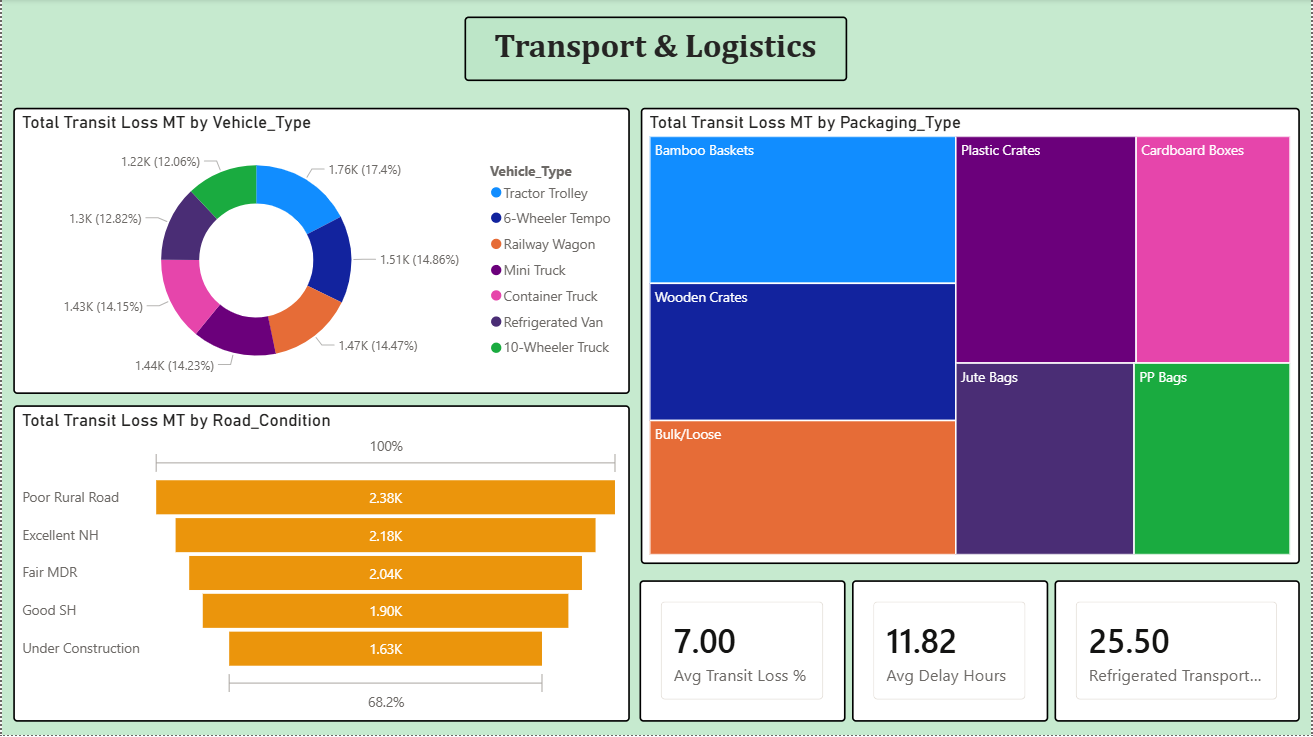

This screenshot's page, from the dashboard's own definition file:
{"tool":"powerbi","page":{"name":"Transport & Logistics","canvas":[1280,720],"ordinal":3},"visuals":[{"type":"donutChart","fields":{"Category":["Transport_Logistics.Vehicle_Type"],"Y":["Measures (2).Total Transit Loss MT"]},"box":[11,106.4,602.9,280],"z":0},{"type":"treemap","fields":{"Group":["Transport_Logistics.Packaging_Type"],"Values":["Measures (2).Total Transit Loss MT"]},"box":[624.9,106.4,644.4,446.3],"z":1000},{"type":"funnel","fields":{"Category":["Transport_Logistics.Road_Condition"],"Y":["Measures (2).Total Transit Loss MT"]},"box":[11,397.4,602.9,309.4],"z":2000},{"type":"cardVisual","fields":{"Data":["Measures (2).Avg Transit Loss %"]},"box":[623.6,568.6,201.8,138.2],"z":3000},{"type":"cardVisual","fields":{"Data":["Measures (2).Avg Delay Hours"]},"box":[831.5,568.6,192,138.2],"z":4000},{"type":"cardVisual","fields":{"Data":["Measures (2).Refrigerated Transport %"]},"box":[1029.6,568.6,239.7,138.2],"z":5000},{"type":"textbox","box":[452.4,17.1,374.2,63.6],"z":6000}]}

Visuals, with their boxes in screenshot pixels (x1, y1, x2, y2), scaled from the page's 1280x720 canvas onto the 1313x737 screenshot:
donutChart - Transport_Logistics.Vehicle_Type x Measures (2).Total Transit Loss MT: detection(11, 109, 630, 396)
treemap - Transport_Logistics.Packaging_Type x Measures (2).Total Transit Loss MT: detection(641, 109, 1302, 566)
funnel - Transport_Logistics.Road_Condition x Measures (2).Total Transit Loss MT: detection(11, 407, 630, 723)
cardVisual - Measures (2).Avg Transit Loss %: detection(640, 582, 847, 723)
cardVisual - Measures (2).Avg Delay Hours: detection(853, 582, 1050, 723)
cardVisual - Measures (2).Refrigerated Transport %: detection(1056, 582, 1302, 723)
textbox: detection(464, 18, 848, 83)
